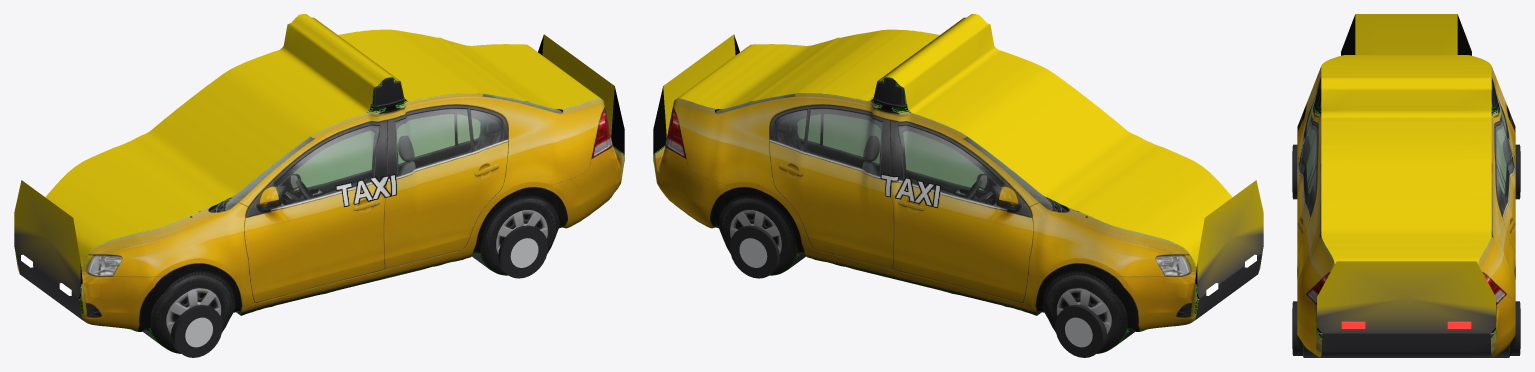
The model's file is taxi.glb.
The picture shows the model from 3 angles, left to right: view 1: azimuth 30°, elevation 25°; view 2: azimuth 150°, elevation 25°; view 3: azimuth 270°, elevation 25°; orthographic projection.
Visible parts, largest first — view 1: taxi; view 2: taxi; view 3: taxi.
Part boxes in pixels (<box>): taxi: <box>14,14,624,357</box>; taxi: <box>653,14,1263,357</box>; taxi: <box>1292,14,1520,357</box>.
Size of the model in its own units: 3.58 by 1.4 by 1.34.
8 materials, 2 textured.
